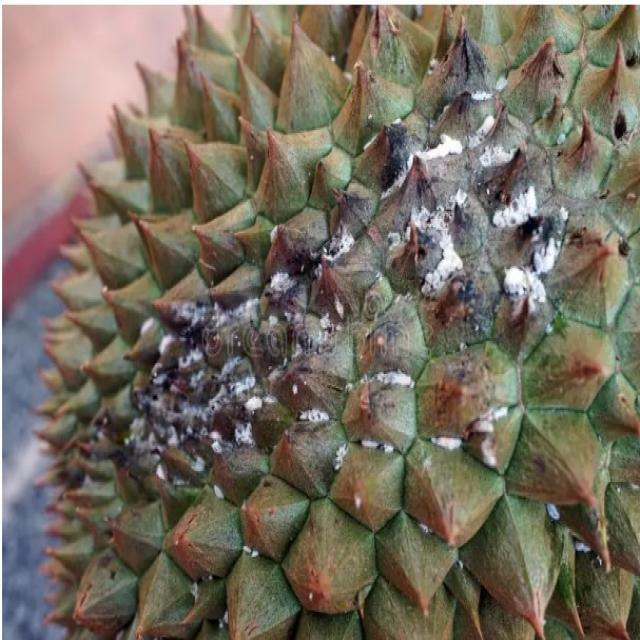defective: (43, 0, 640, 638)
